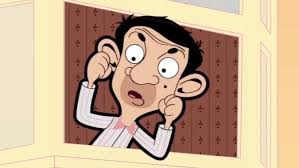mrbean: (74, 14, 210, 159)
